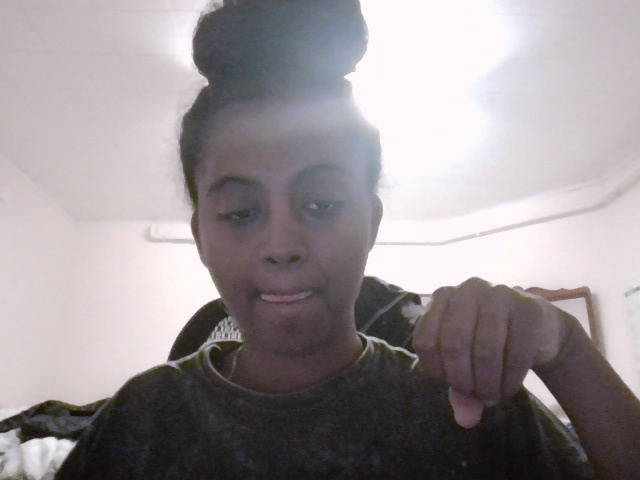Yes: (407, 270, 567, 431)
